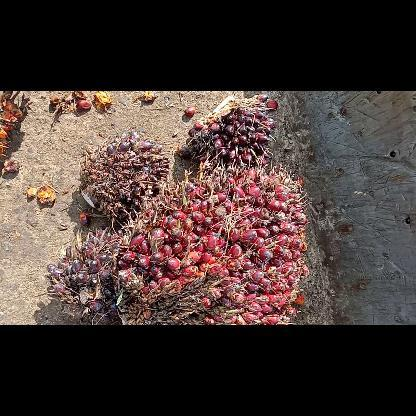TBS abnormal: (83, 132, 167, 218), (184, 98, 276, 166), (48, 232, 118, 320)
TBS masak: (113, 164, 306, 324)
